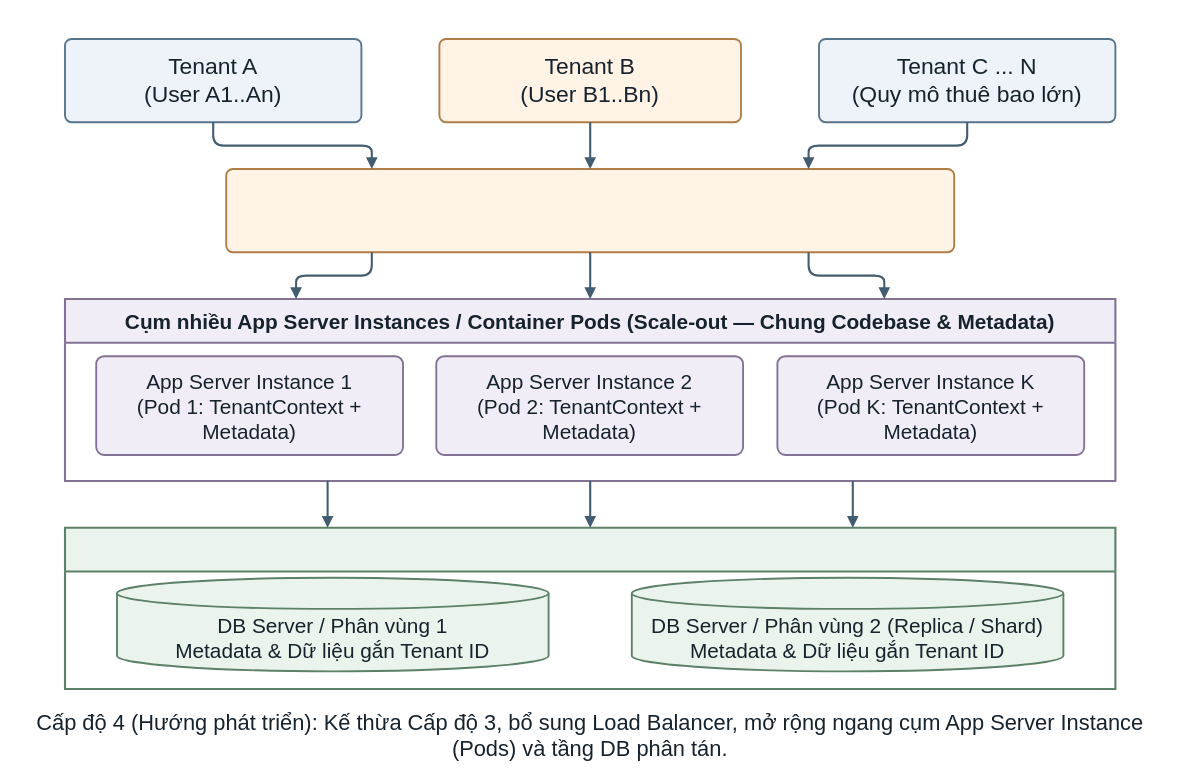
Image size: 1179x784. Some labels were removed from this diagram. The box of each missing label's shape, as (x1, y1, x2, y2) in pixels:
Bộ cân bằng tải (Load Balancer / Điều phối yêu cầu nhận biết Tenant): (225, 168, 955, 253)
Tầng Cơ sở dữ liệu mở rộng / Phân tán (Distributed / Sharded Database Server): (63, 526, 1116, 690)
